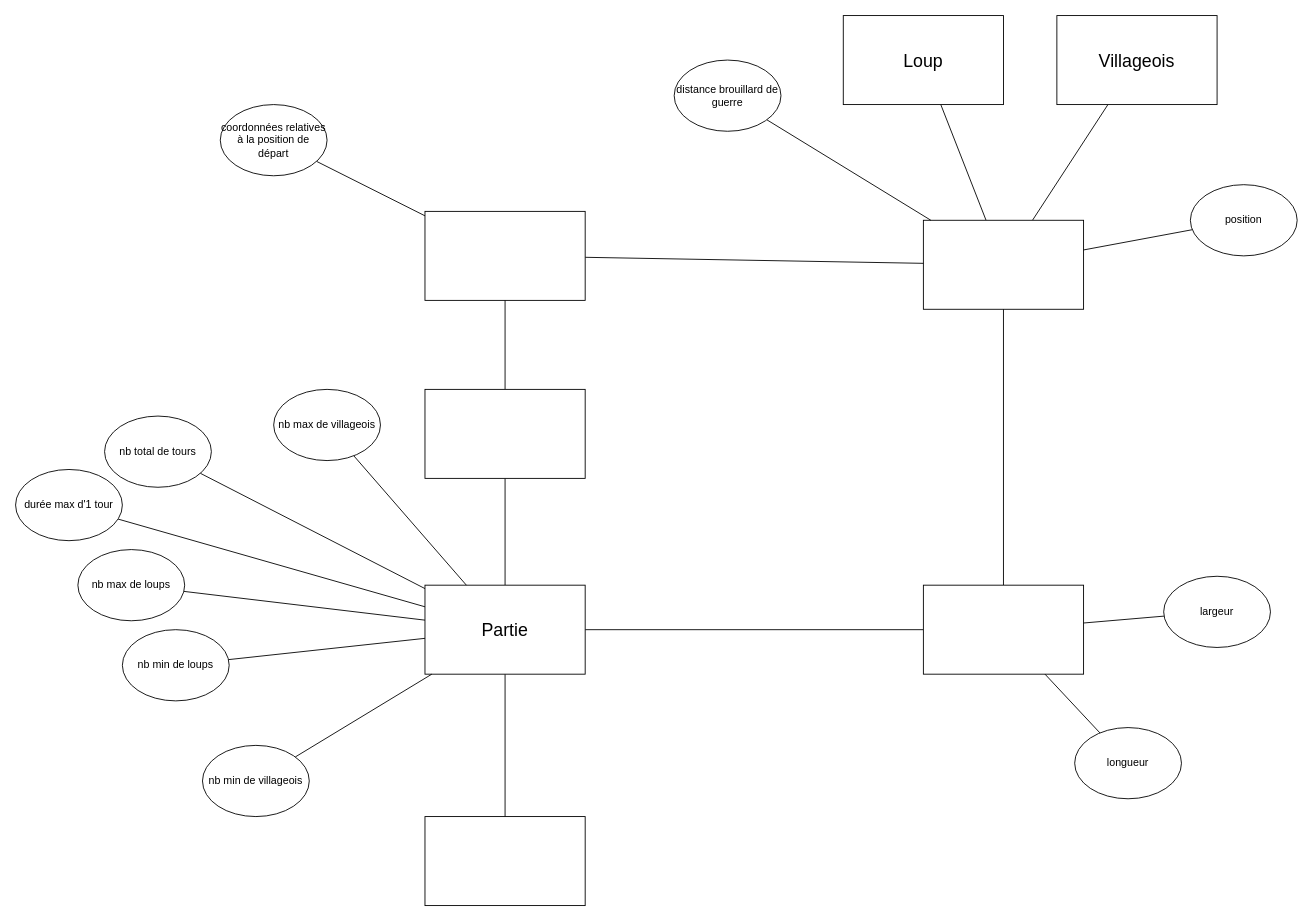
This 1313x921 diagram has some shape labels left out. The shapes that lost their labels are listed below. From the top down, each one's box as (x1, y1, x2, y2) in pixels, then its label:
(424, 210, 585, 300): Déplacement
(922, 219, 1084, 309): Joueur
(424, 388, 585, 478): Tour
(922, 584, 1084, 674): Carte
(424, 816, 585, 906): Administrateur
